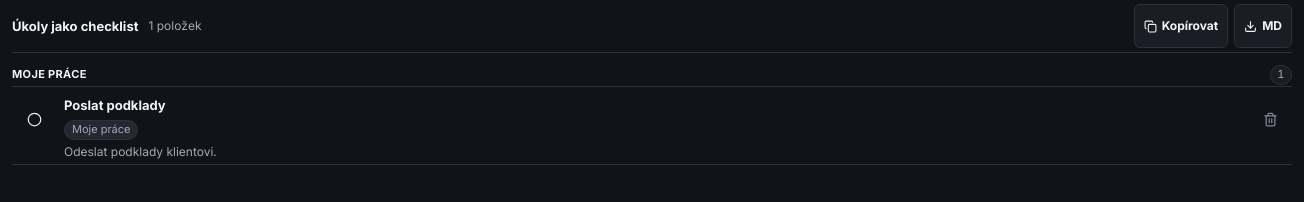
Test case: individual structured task delete › keeps a successful delete hidden and restores the exact task after failure
Click the button with class "structured-task-delete" at (1270,119), box [1248,97,1292,141]
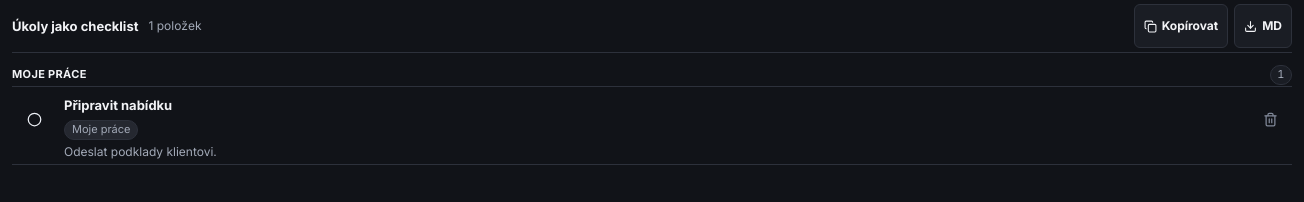
Click the button with class "structured-task-delete" at (1270,119), box [1248,97,1292,141]
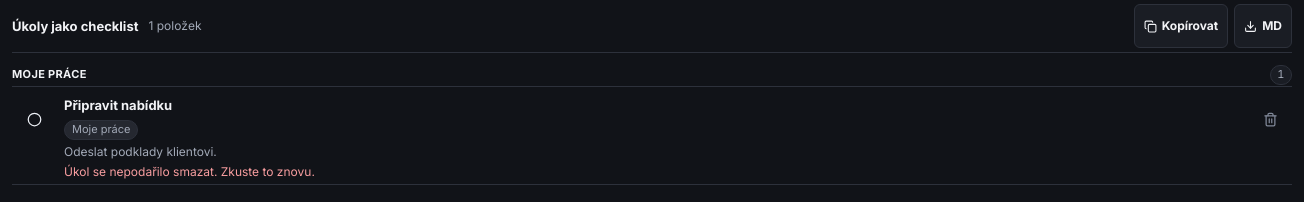
Expected: the element with class "structured-task-row" shows "Úkol se nepodařilo smazat", [64,164,315,179]
